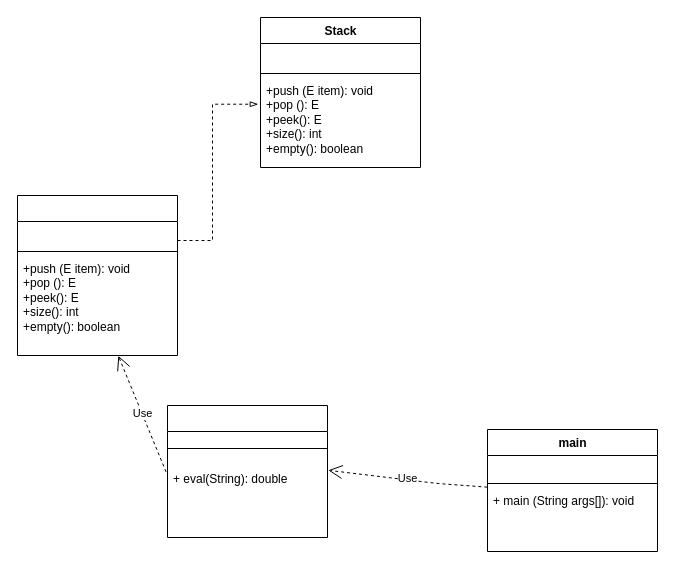
The diagram is 675 pixels wide and 569 high, and some of its shapes have lost their labels. Each missing label, with the box of its shape:
Calculadora: (166, 404, 328, 538)
StackArrayList: (16, 194, 178, 356)
